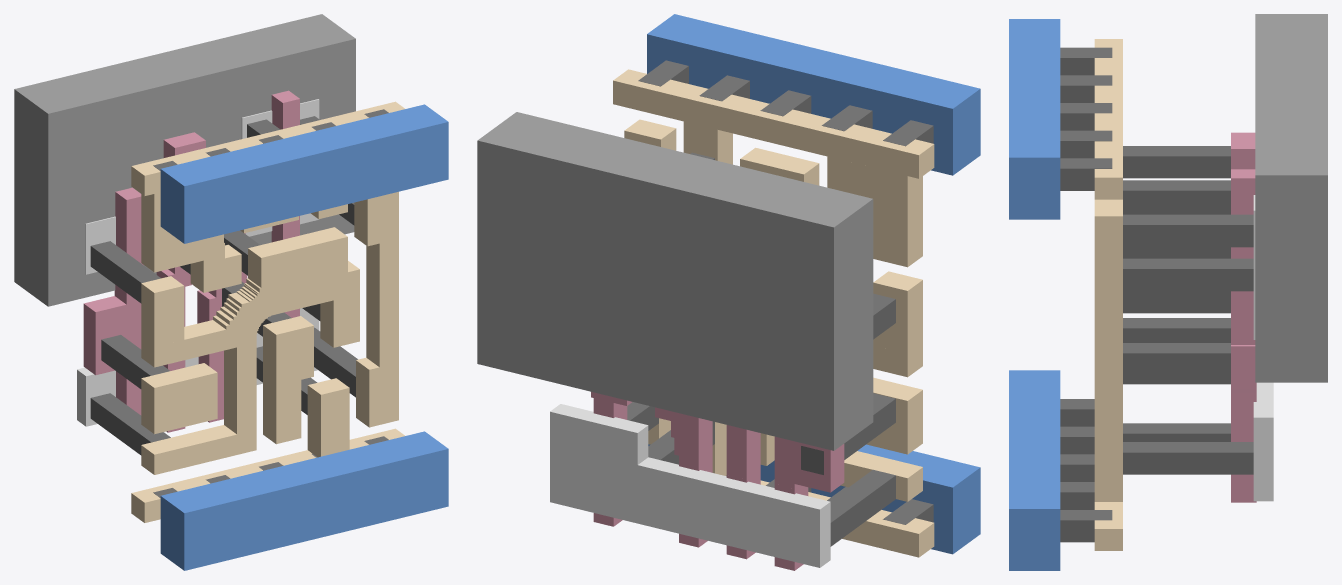
The model's file is sky130_fd_sc_hd__and3_1.gds.gltf.
The picture shows the model from 3 angles, left to right: view 1: azimuth 30°, elevation 25°; view 2: azimuth 150°, elevation 25°; view 3: azimuth 270°, elevation 25°; orthographic projection. The views are drawn at different scales.
Visible parts, largest first — view 1: sky130_fd_sc_hd__and3_1_li1, sky130_fd_sc_hd__and3_1_met1, sky130_fd_sc_hd__and3_1_nwell, sky130_fd_sc_hd__and3_1_poly, sky130_fd_sc_hd__and3_1_licon, sky130_fd_sc_hd__and3_1_diff, sky130_fd_sc_hd__and3_1_mcon; view 2: sky130_fd_sc_hd__and3_1_nwell, sky130_fd_sc_hd__and3_1_li1, sky130_fd_sc_hd__and3_1_met1, sky130_fd_sc_hd__and3_1_diff, sky130_fd_sc_hd__and3_1_poly, sky130_fd_sc_hd__and3_1_licon, sky130_fd_sc_hd__and3_1_mcon; view 3: sky130_fd_sc_hd__and3_1_licon, sky130_fd_sc_hd__and3_1_nwell, sky130_fd_sc_hd__and3_1_met1, sky130_fd_sc_hd__and3_1_li1, sky130_fd_sc_hd__and3_1_mcon, sky130_fd_sc_hd__and3_1_poly, sky130_fd_sc_hd__and3_1_diff.
Boxes of the visible parts, x1,y1,x2,y2 form: sky130_fd_sc_hd__and3_1_li1: (131, 101, 404, 522); sky130_fd_sc_hd__and3_1_met1: (160, 104, 448, 570); sky130_fd_sc_hd__and3_1_nwell: (14, 14, 355, 306); sky130_fd_sc_hd__and3_1_poly: (83, 90, 299, 432); sky130_fd_sc_hd__and3_1_licon: (90, 116, 357, 455); sky130_fd_sc_hd__and3_1_diff: (77, 99, 319, 426); sky130_fd_sc_hd__and3_1_mcon: (153, 109, 388, 497); sky130_fd_sc_hd__and3_1_nwell: (477, 112, 873, 450); sky130_fd_sc_hd__and3_1_li1: (613, 69, 934, 557); sky130_fd_sc_hd__and3_1_met1: (647, 14, 980, 554); sky130_fd_sc_hd__and3_1_diff: (550, 404, 830, 567); sky130_fd_sc_hd__and3_1_poly: (591, 392, 844, 570); sky130_fd_sc_hd__and3_1_licon: (627, 152, 895, 546); sky130_fd_sc_hd__and3_1_mcon: (638, 60, 933, 524); sky130_fd_sc_hd__and3_1_licon: (1123, 146, 1253, 474); sky130_fd_sc_hd__and3_1_nwell: (1255, 14, 1327, 382); sky130_fd_sc_hd__and3_1_met1: (1009, 19, 1060, 570); sky130_fd_sc_hd__and3_1_li1: (1094, 39, 1122, 550); sky130_fd_sc_hd__and3_1_mcon: (1060, 47, 1112, 542); sky130_fd_sc_hd__and3_1_poly: (1231, 132, 1256, 502); sky130_fd_sc_hd__and3_1_diff: (1253, 195, 1273, 501).
Size of the model in its own units: 2.68 by 3.2 by 2.24.
